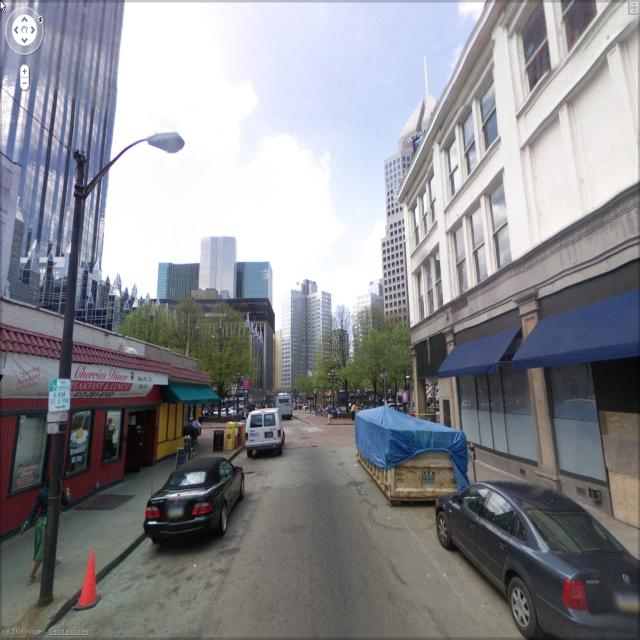b_1: (0, 7, 104, 286), (0, 310, 204, 452), (436, 62, 528, 302), (402, 150, 454, 348), (368, 156, 420, 337), (153, 242, 279, 302), (287, 281, 331, 385)
b_2: (118, 298, 273, 409), (314, 316, 424, 414)
